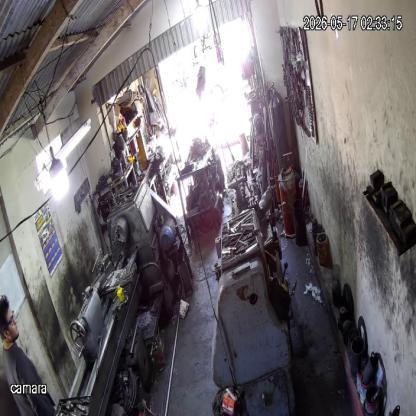lentes: (3, 312, 17, 328)
